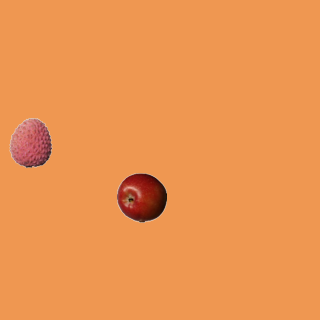Apple Braeburn: (116, 172, 166, 222)
Lychee: (5, 117, 55, 167)
